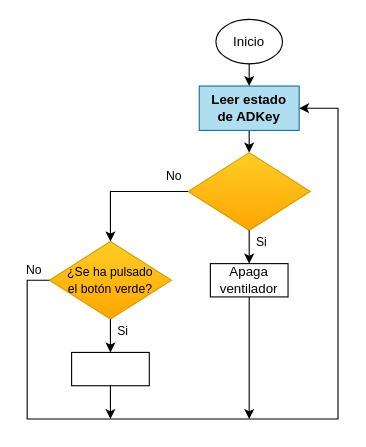
The diagram is 366 pixels wide and 447 high, and some of its shapes have lost their labels. The shapes that lost their labels are listed below. From the top down, each one's centre as x and y in pixels, then its label:
point 248,191: ¿Se ha pulsado el botón rojo?
point 109,368: Enciende ventilador
